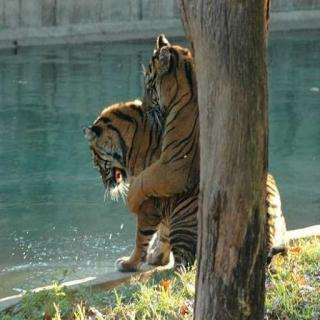Tiger: (133, 32, 320, 282), (74, 96, 270, 248)
